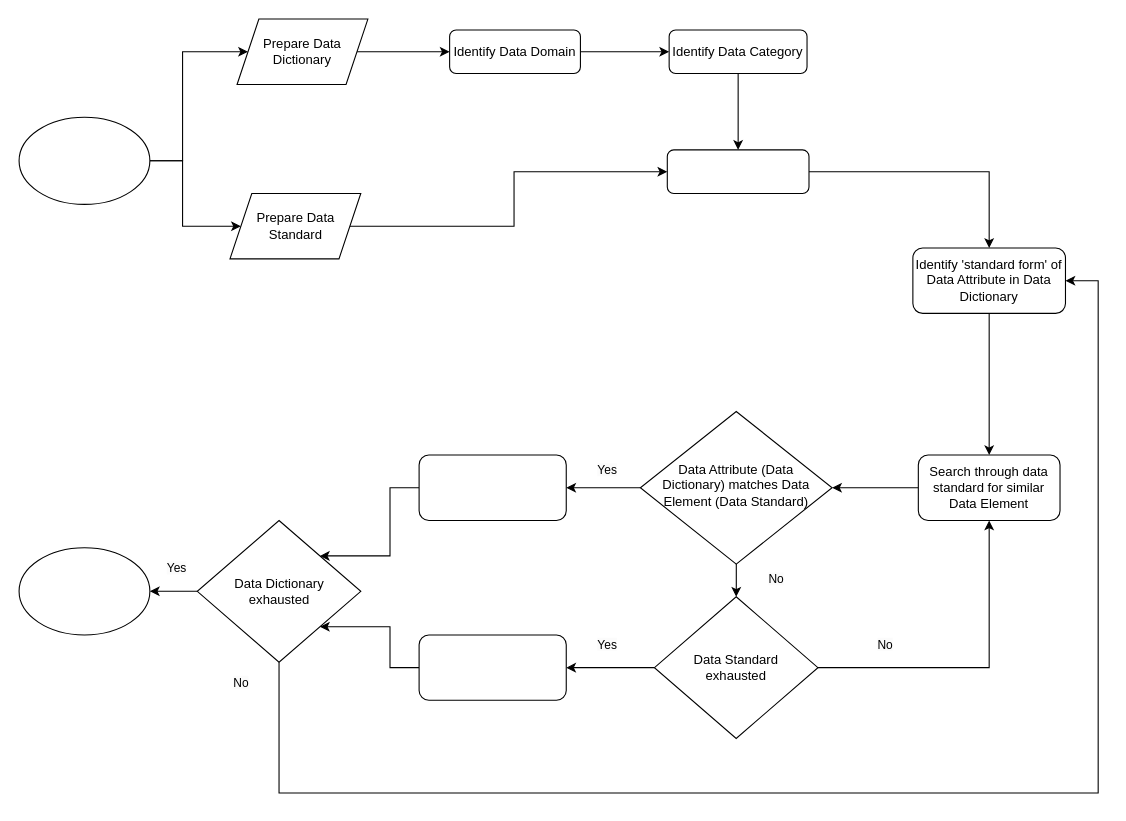
The diagram is 1126 pixels wide and 821 high, and some of its shapes have lost their labels. The centre of each missing label's shape, as x and y in pixels:
End: (x=84, y=591)
Fill in 'No' for Critical Data Element in Data Dictionary: (x=492, y=667)
Fill in 'Yes' for Critical Data Element in Data Dictionary: (x=492, y=487)
Filter Data Domain and/or Data Category: (x=737, y=171)
Start: (x=84, y=160)
